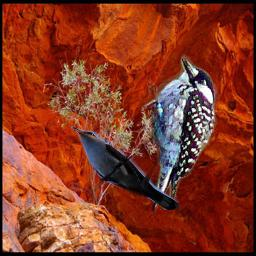Cuckoo: (70, 125, 179, 210)
Woodpecker: (127, 50, 227, 223)
